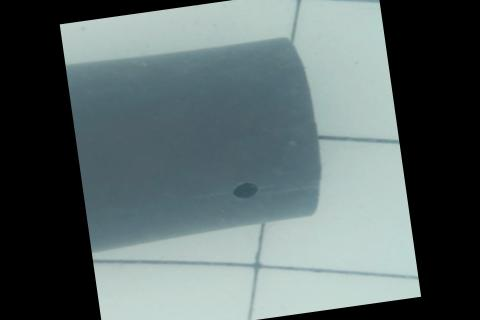kebocoran: (231, 178, 260, 200)
